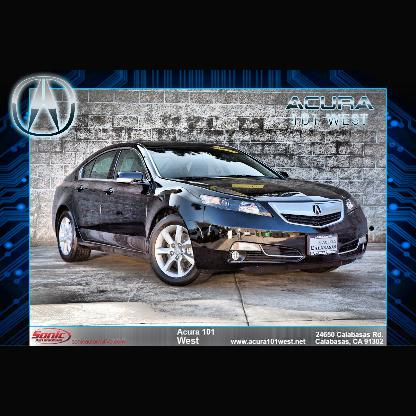Acura TL Sedan 2012: (52, 140, 370, 288)
